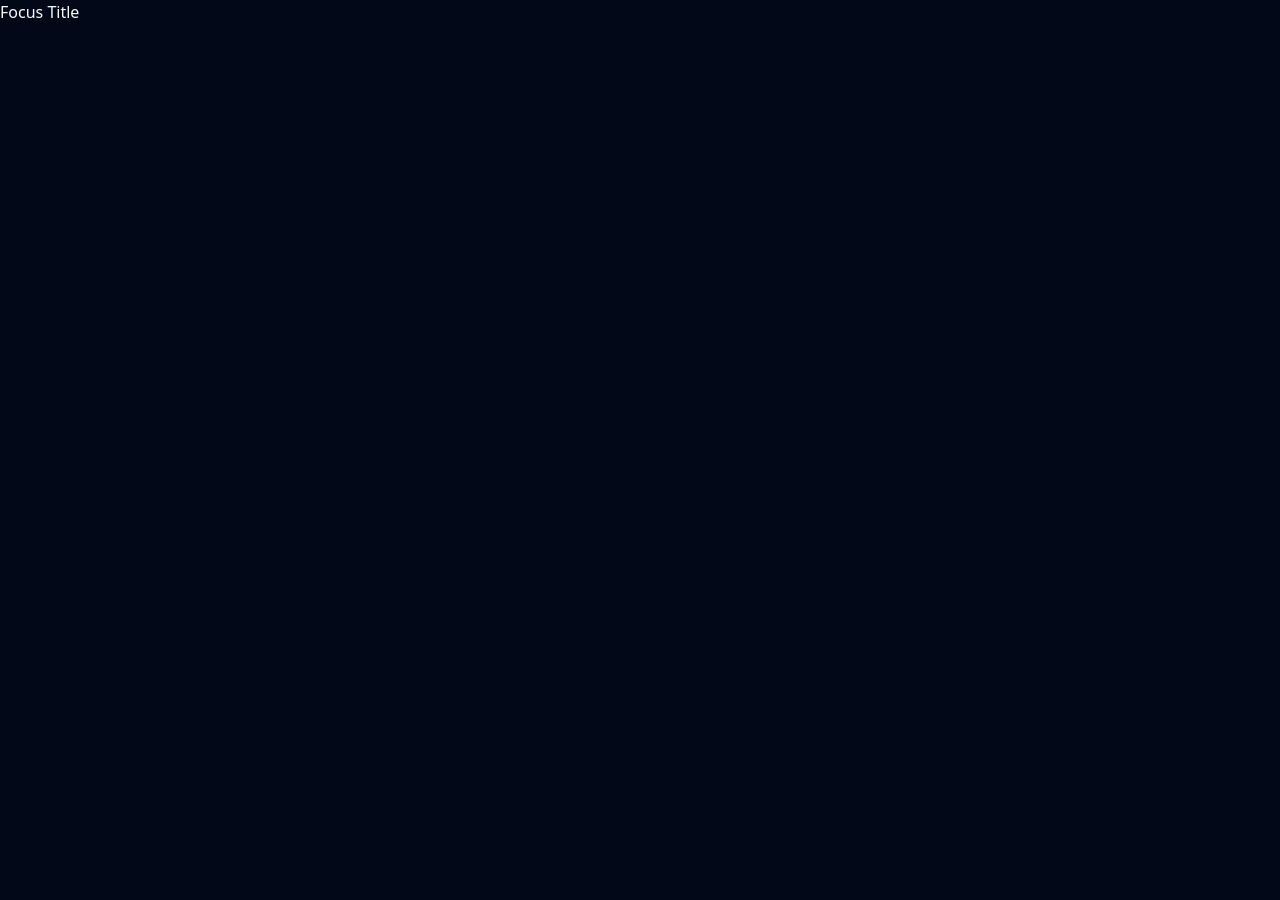
Scenario: Dialog组件系统 › DialogTitle › 应该设置文档焦点到标题
The width and height of the screenshot is (1280, 900).
Click the button "Focus Title" at (40, 12), box left=0, top=0, right=79, bottom=24
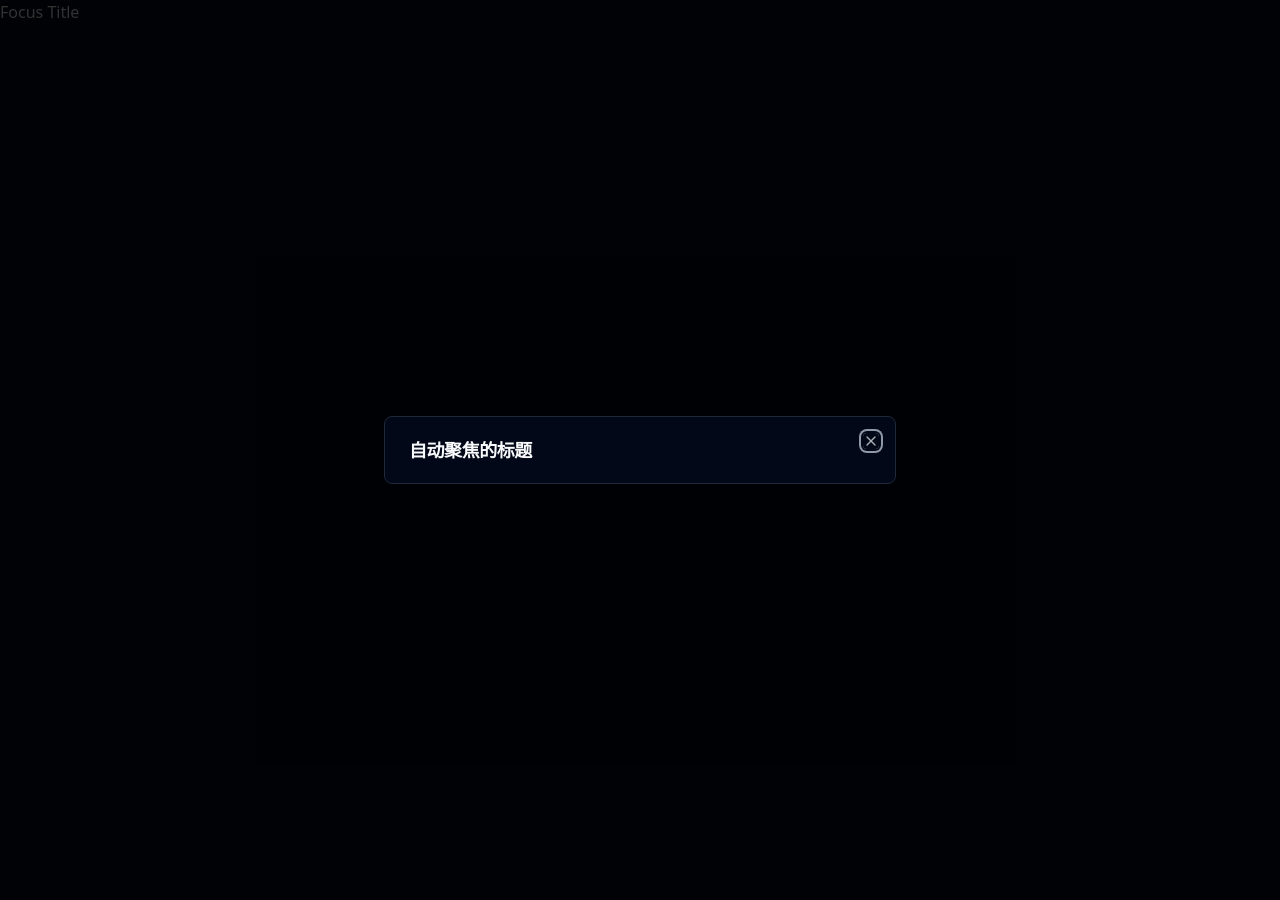
Expected: the heading "自动聚焦的标题" is shown, left=409, top=438, right=532, bottom=462
